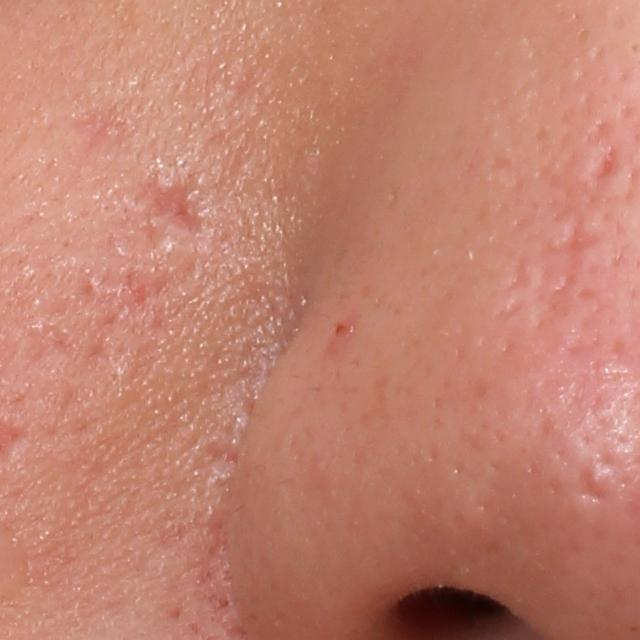atrophic_scar: (128, 161, 218, 248), (542, 200, 602, 306), (588, 140, 618, 189), (576, 462, 607, 508), (504, 250, 534, 292), (584, 114, 612, 147)
